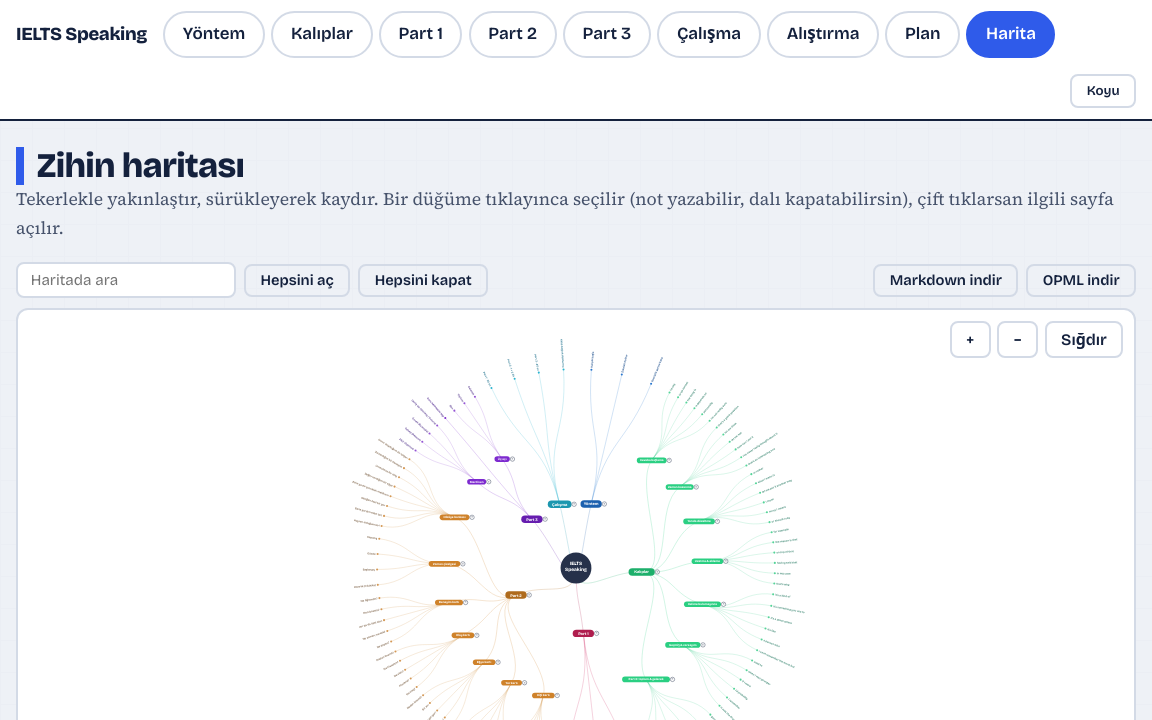
Scenario: search › regex characters and no results do not crash
Type "(*" into the search field labelled "Haritada ara" at point(126, 280), box [16,262,236,298]
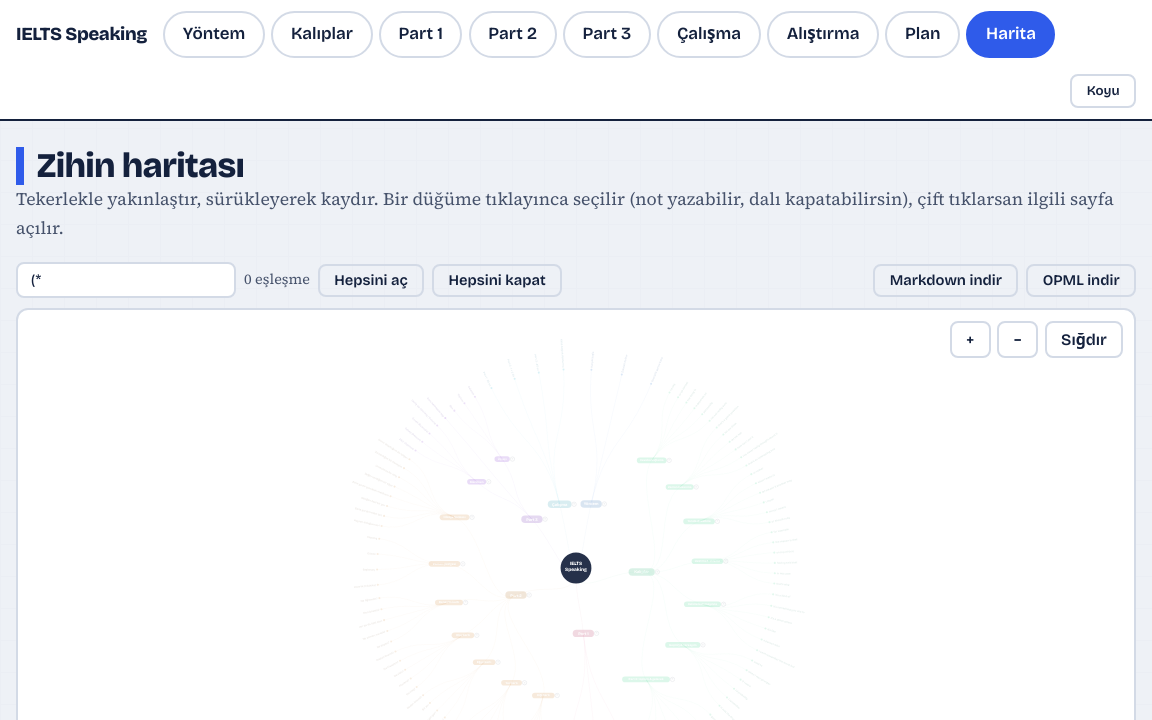
Expected: the message reads "0 eşleşme", [244,268,310,292]
